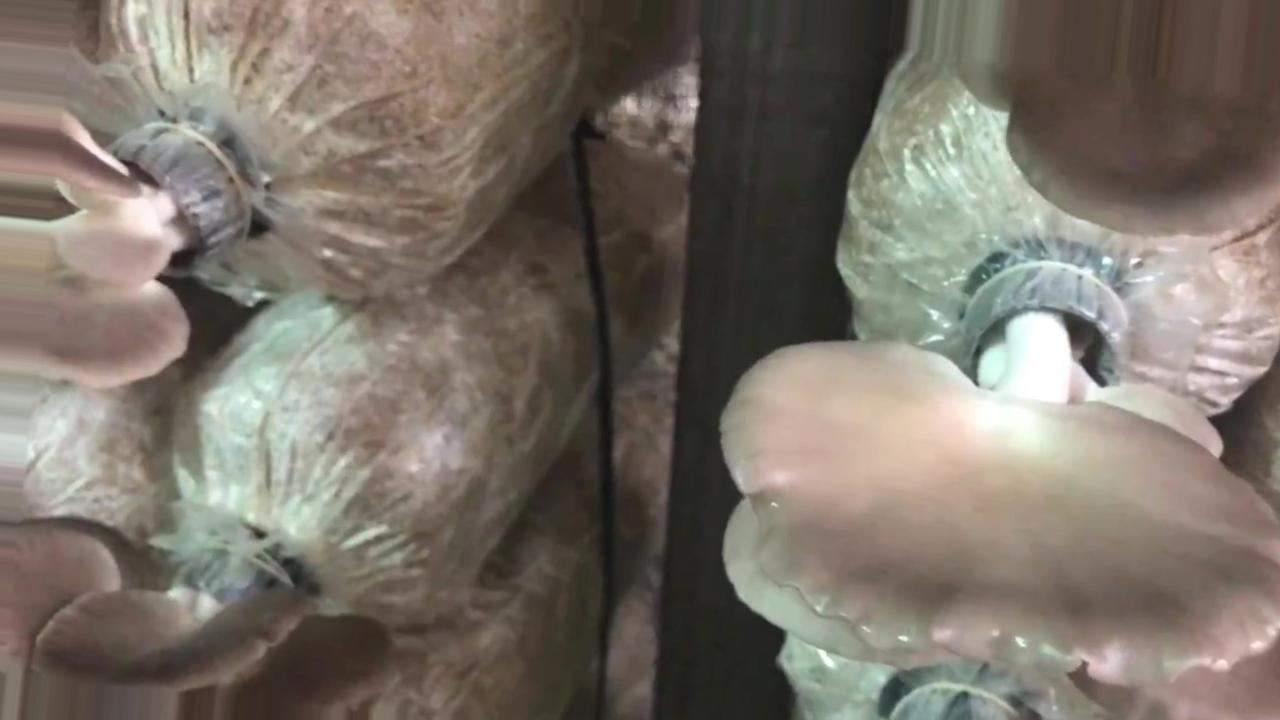nam: (713, 243, 1280, 689), (957, 1, 1277, 239), (35, 534, 399, 718), (49, 109, 248, 395)
